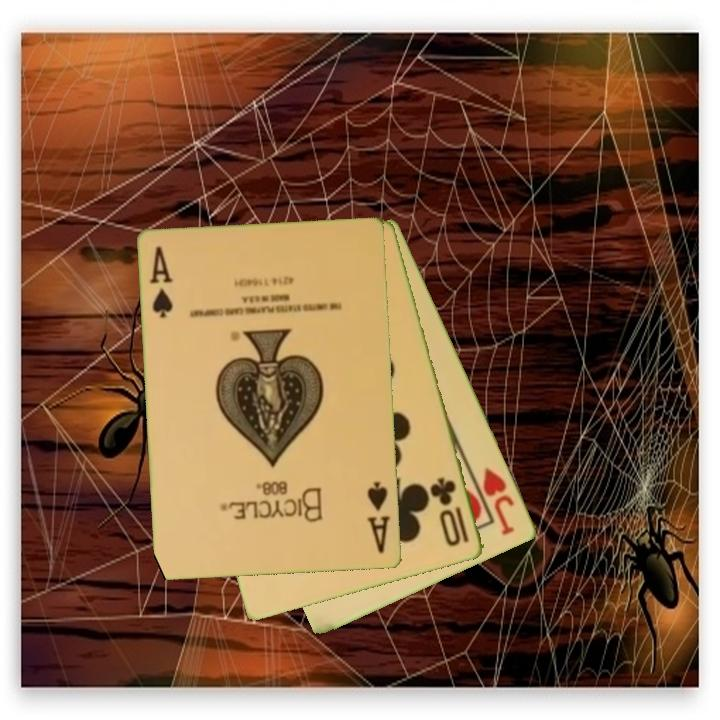10c: (428, 474, 473, 550)
As: (146, 243, 176, 322), (364, 478, 394, 556)
Jh: (479, 463, 518, 539)
